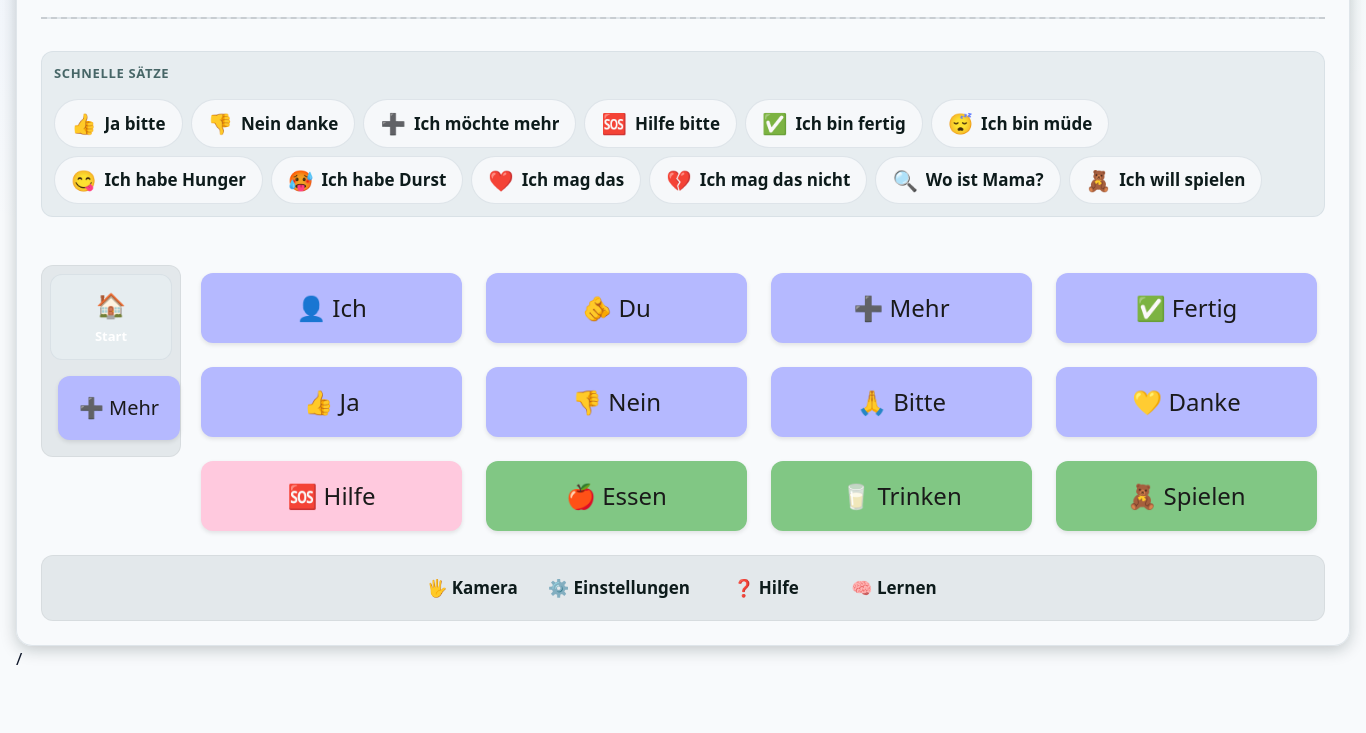
MetacomBoard › offers training for the last selected symbol
This screenshot has width=1366, height=733.
(page scrolled)
Click the button "👍 Ja" at (332, 402), box [201,367,462,437]
(page scrolled)
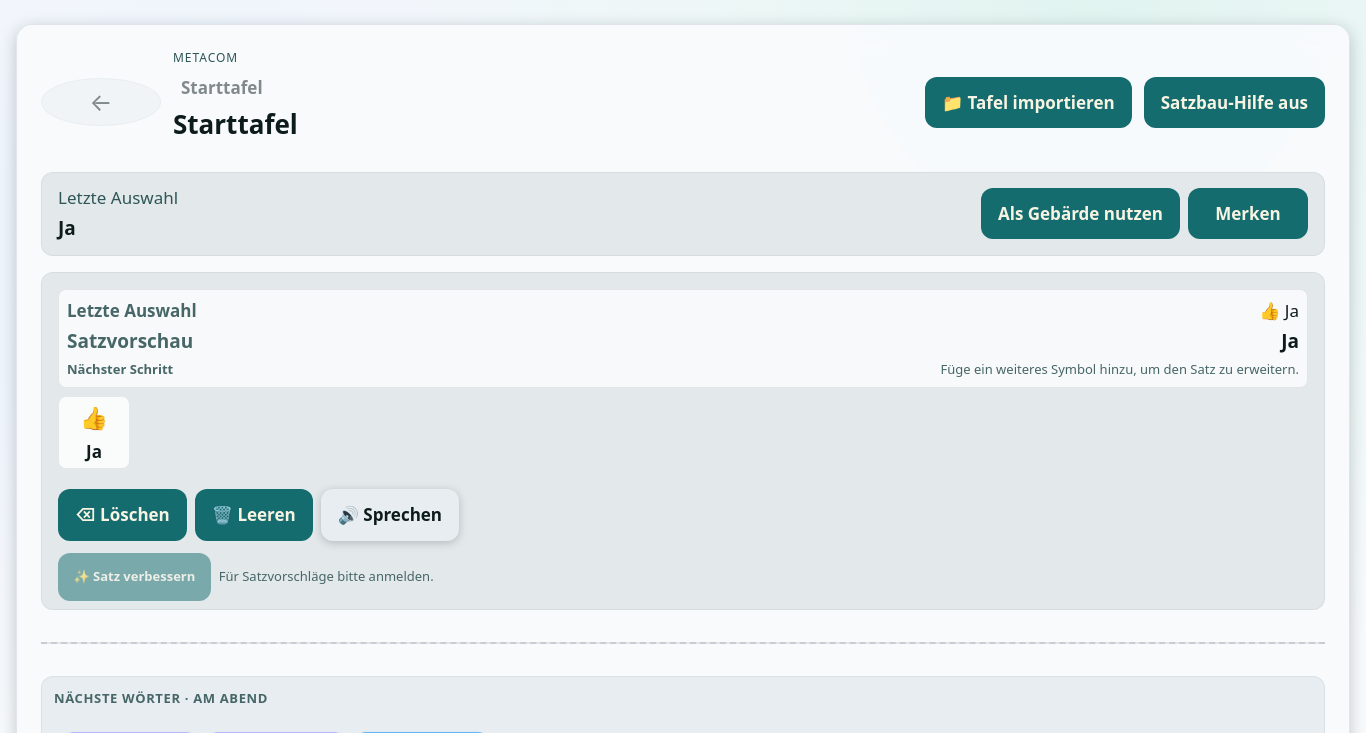
Click the button "Als Gebärde nutzen" at (1080, 214), box [981,188,1180,239]
(page scrolled)
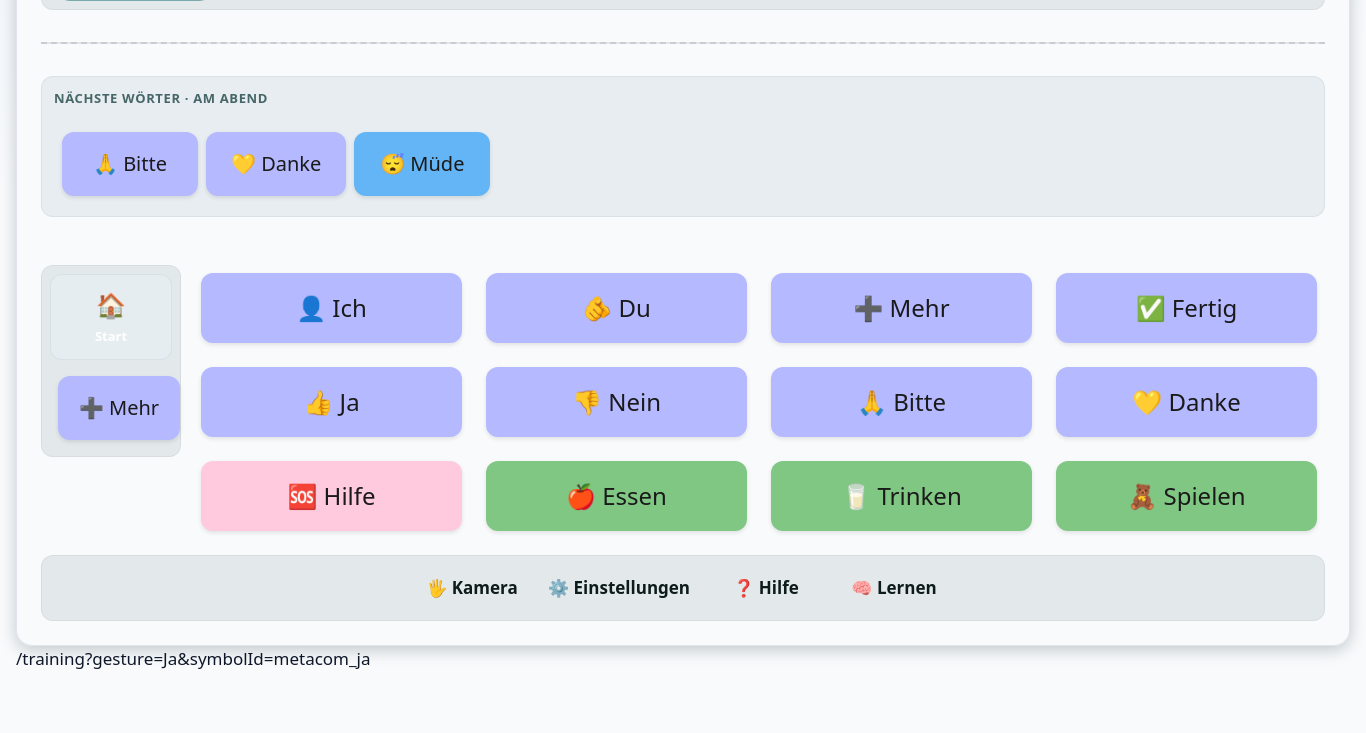
Expected: the text with test id "location-display" shows "/training", [16,647,370,670]
Expected: the text with test id "location-display" shows "gesture=Ja", [16,647,370,670]
Expected: the text with test id "location-display" shows "symbolId=metacom_ja", [16,647,370,670]
